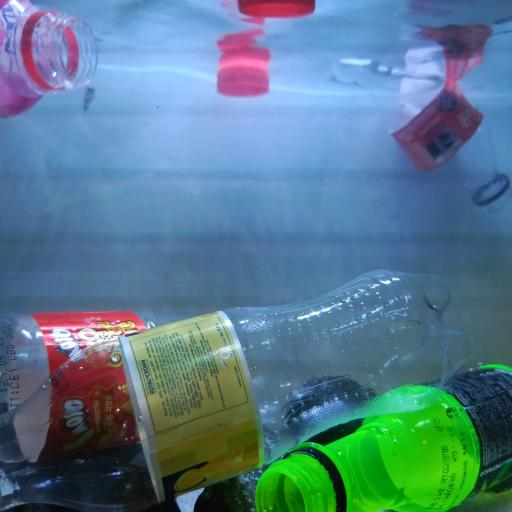bottle_cap: (216, 65, 272, 99), (236, 0, 318, 20)
plastic_bottle: (1, 267, 472, 512), (254, 363, 512, 512), (0, 311, 182, 455), (366, 77, 512, 215), (1, 0, 101, 119)
